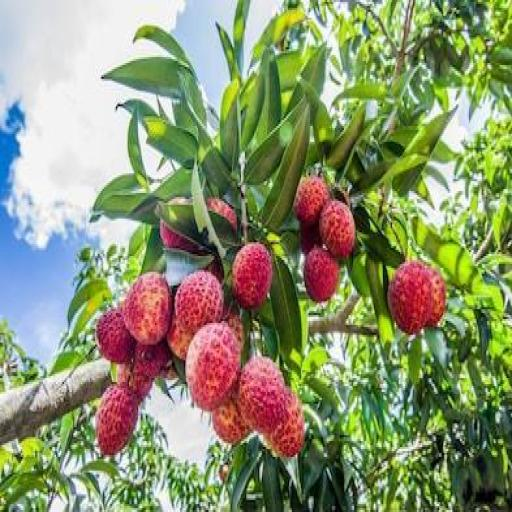lychee: (185, 323, 241, 411), (238, 357, 286, 433), (123, 272, 171, 344), (387, 260, 432, 334), (175, 270, 224, 332), (96, 384, 139, 454), (232, 243, 272, 309), (268, 390, 304, 456), (97, 308, 135, 364), (320, 199, 355, 257), (304, 247, 338, 303), (213, 396, 251, 445), (295, 176, 329, 224), (133, 341, 170, 380), (118, 365, 153, 401), (161, 221, 199, 254), (425, 266, 445, 326), (167, 318, 192, 360), (206, 197, 237, 230), (223, 306, 243, 350), (300, 223, 321, 254), (205, 256, 224, 283), (219, 463, 229, 482)
